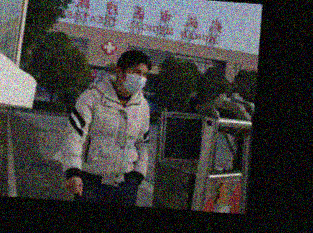with_mask: (121, 67, 148, 93)
